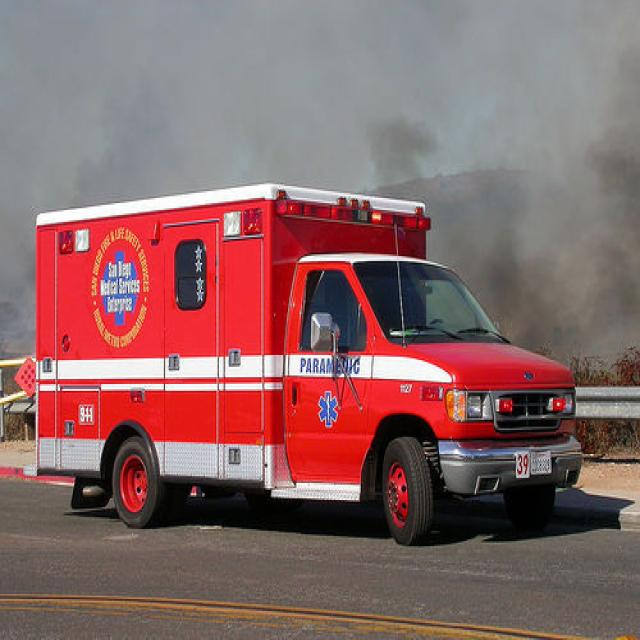emergency-vehicle: (33, 181, 576, 543)
